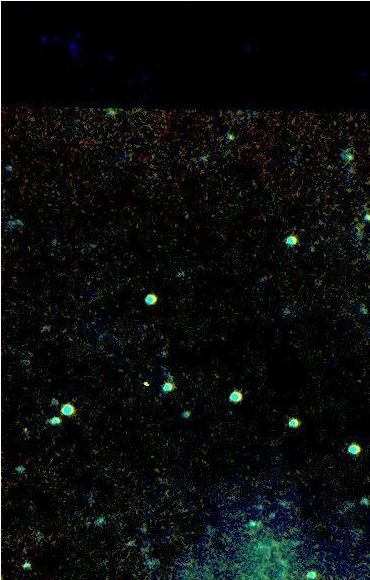star: (132, 370, 162, 400)
